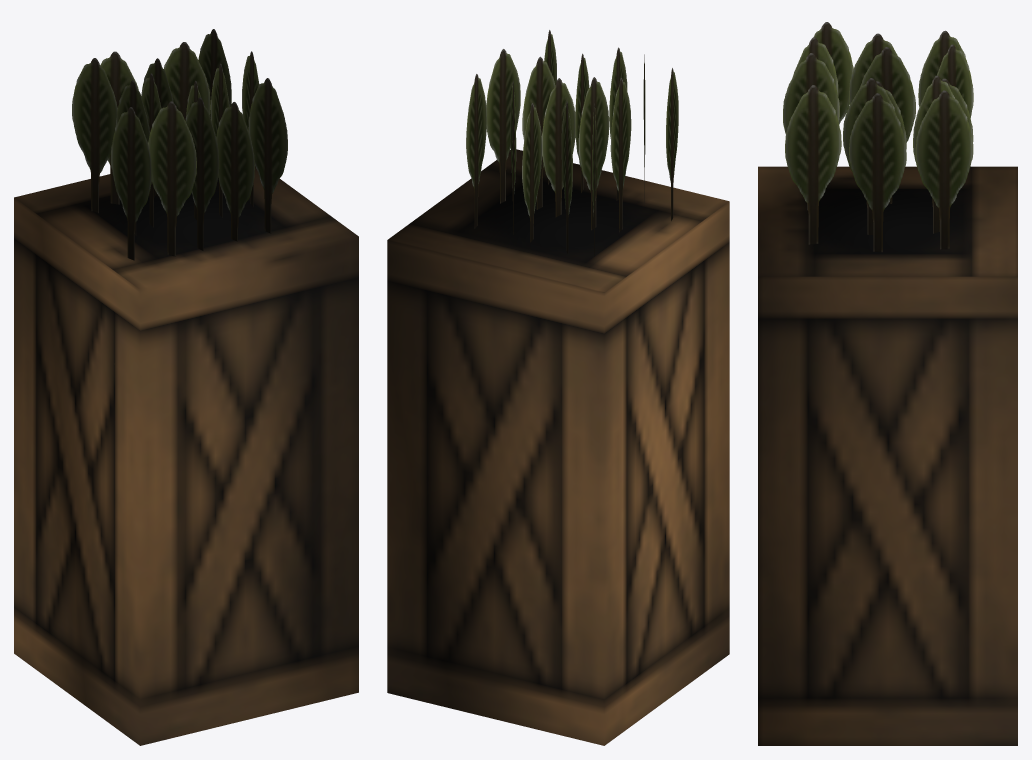
Rendered from arrow crate.fbx.
The picture shows the model from 3 angles, left to right: view 1: azimuth 30°, elevation 25°; view 2: azimuth 150°, elevation 25°; view 3: azimuth 270°, elevation 25°; orthographic projection. The views are drawn at different scales.
Visible parts, largest first — view 1: Aroow_crate; view 2: Aroow_crate; view 3: Aroow_crate.
Boxes of the visible parts, x1,y1,x2,y2 form: Aroow_crate: (14, 29, 358, 745); Aroow_crate: (387, 30, 729, 745); Aroow_crate: (758, 22, 1017, 745).
Size of the model in its own units: 0.4051 by 1.09 by 0.4051.
